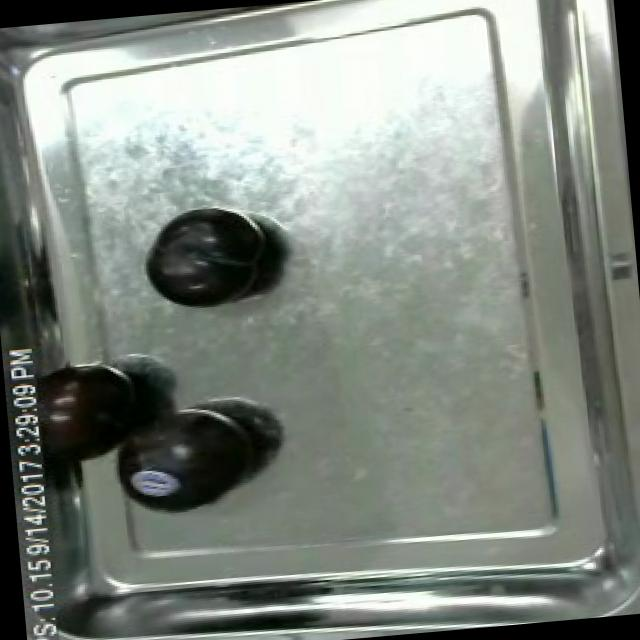Fruit: (104, 394, 272, 520), (134, 202, 282, 318)
